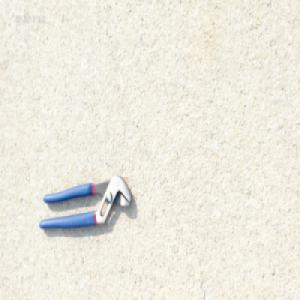Pliers: (37, 173, 133, 232)
